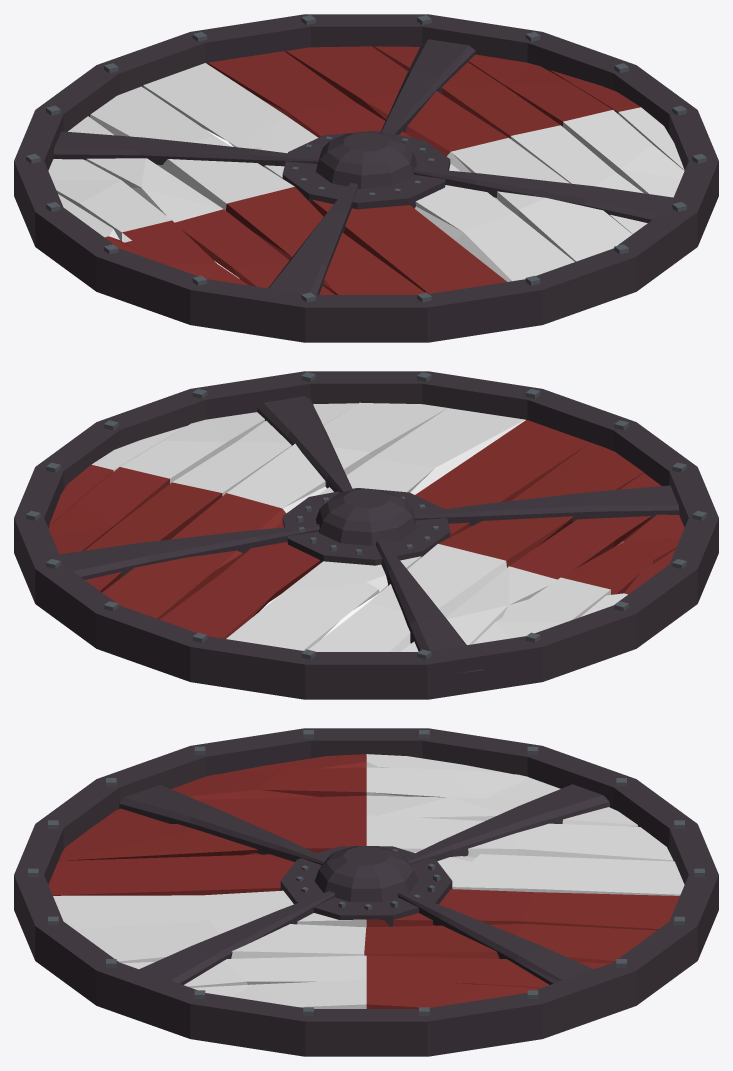
File: Shield_1.fbx
3 views of the same model, one above another, from view 1: azimuth 30°, elevation 25°; view 2: azimuth 150°, elevation 25°; view 3: azimuth 270°, elevation 25° (orthographic).
Parts seen in each view (by area): view 1: Shield_1; view 2: Shield_1; view 3: Shield_1.
Part boxes in pixels (x1,y1,x2,y2): Shield_1: [14, 14, 718, 342]; Shield_1: [14, 371, 718, 699]; Shield_1: [14, 728, 718, 1056].
Bounding box in the file's own units: 0.9046 × 0.0877 × 0.9186.
